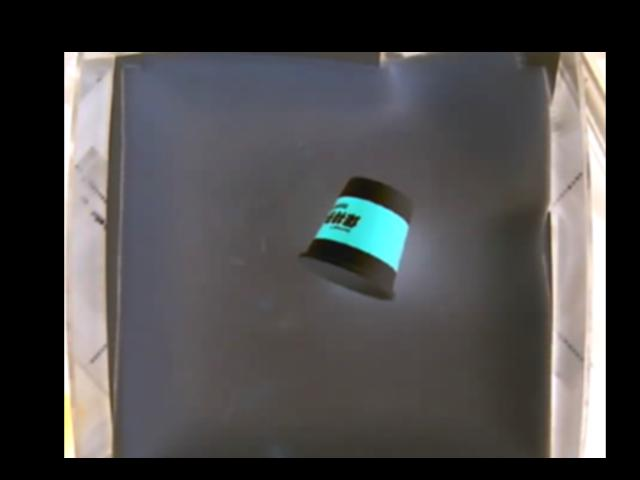Cup: (301, 175, 411, 301)
